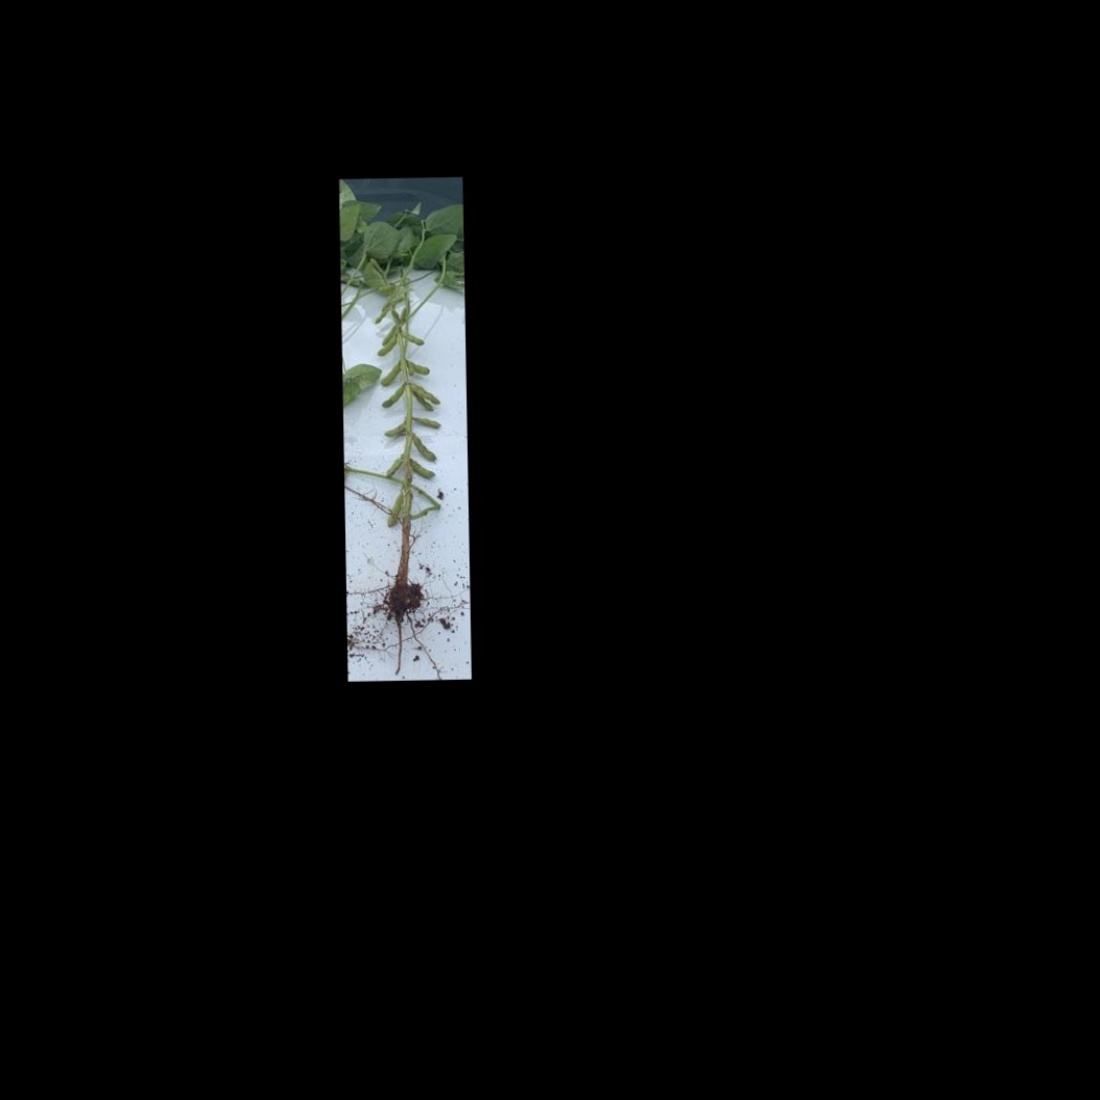pod: (409, 431, 439, 462), (378, 381, 408, 411), (410, 379, 442, 405), (382, 494, 404, 528), (376, 329, 401, 359), (382, 454, 406, 480), (409, 416, 448, 432), (410, 460, 436, 482), (379, 421, 408, 439), (409, 358, 434, 375), (406, 328, 425, 346)
soy: (343, 210, 463, 625)
